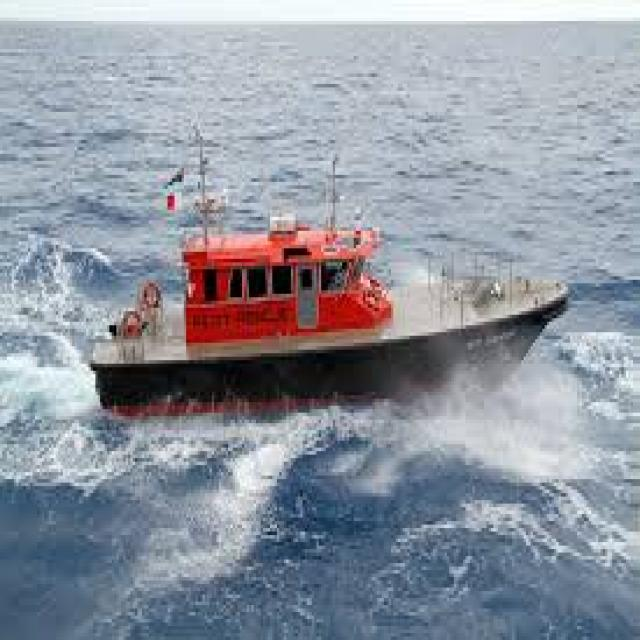houseboat: (77, 127, 565, 420)
